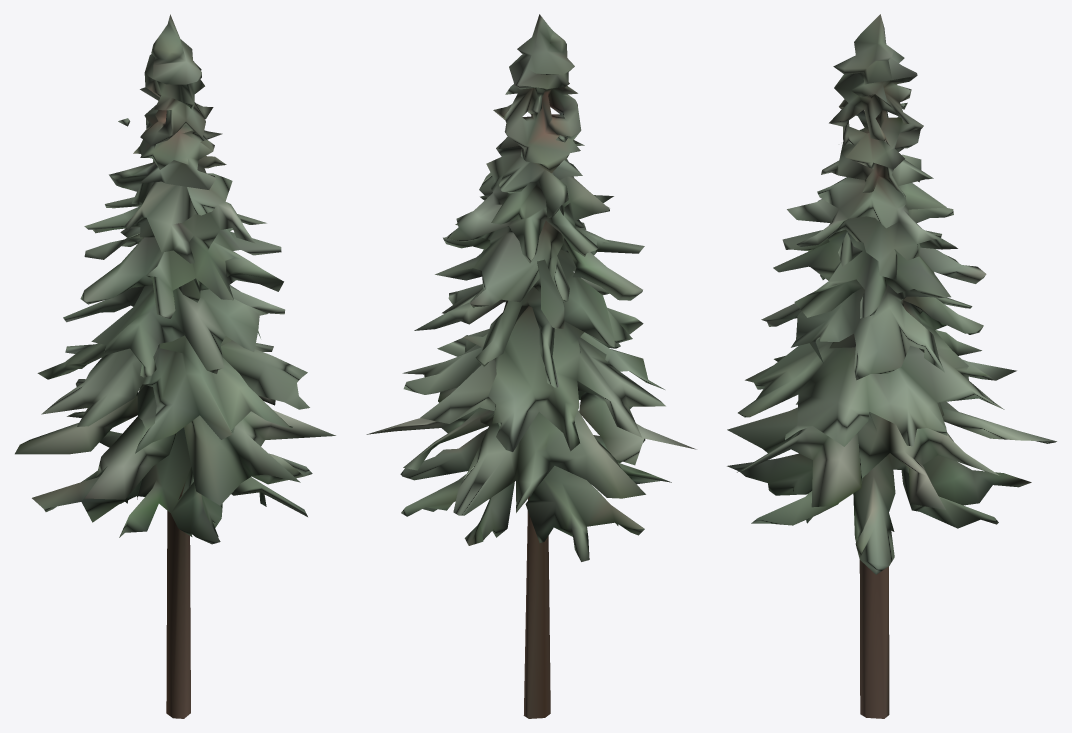
The model's file is pine_near.glb.
3 views of the same model, side by side, from view 1: azimuth 30°, elevation 25°; view 2: azimuth 150°, elevation 25°; view 3: azimuth 270°, elevation 25° (orthographic).
Parts seen in each view (by area): view 1: pine; view 2: pine; view 3: pine.
Boxes of the visible parts, left/top/right/bottom form: pine: left=15, top=14, right=335, bottom=718; pine: left=366, top=14, right=696, bottom=718; pine: left=727, top=14, right=1056, bottom=718.
Bounding box in the file's own units: 0.4064 × 1 × 0.4298.
